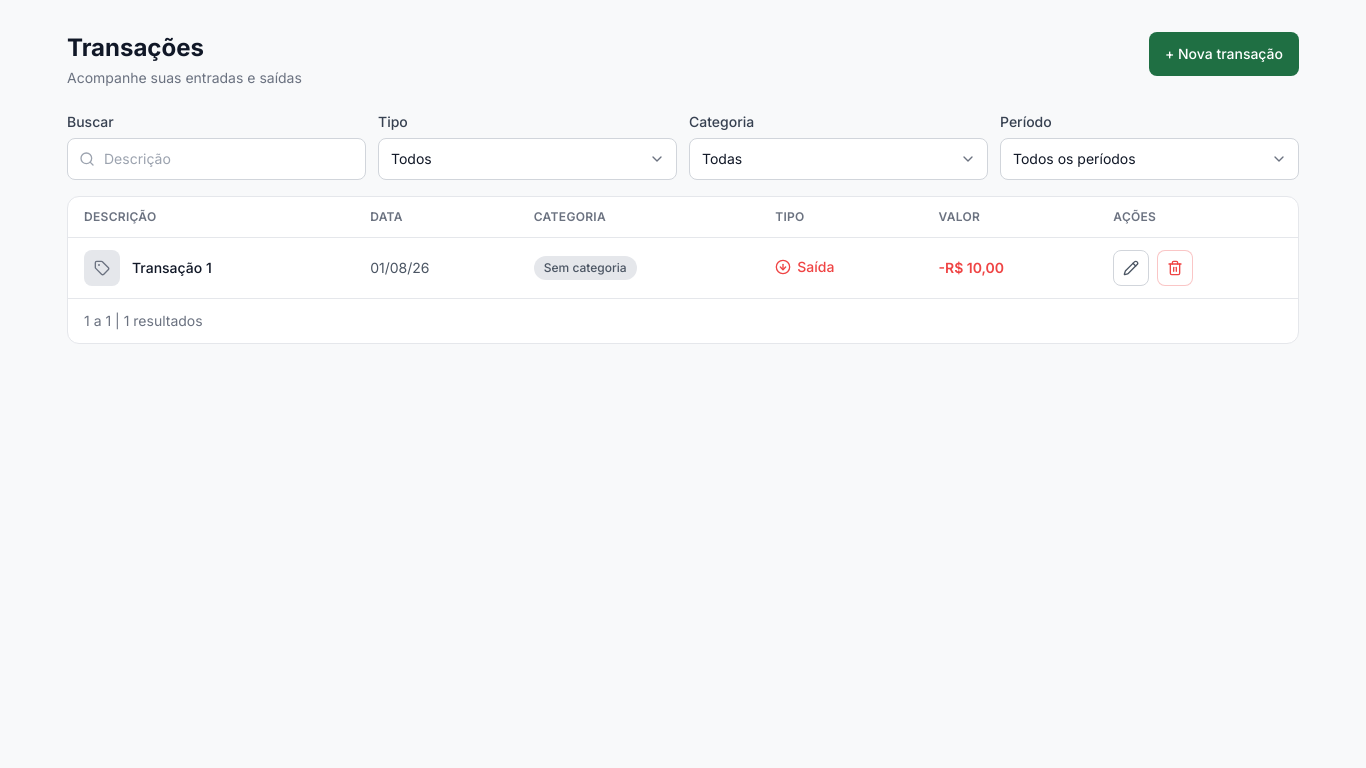
Test: TransactionsPage › opens the dialog holding the row it was asked to edit
Expected: the text "Transação 1" is shown, [132,258,212,278]
What coordinates should you click on to do the following:
click the button named "Editar Transação 1"
I would click on:
 (1131, 268)
Its box is [1113,250,1149,286].
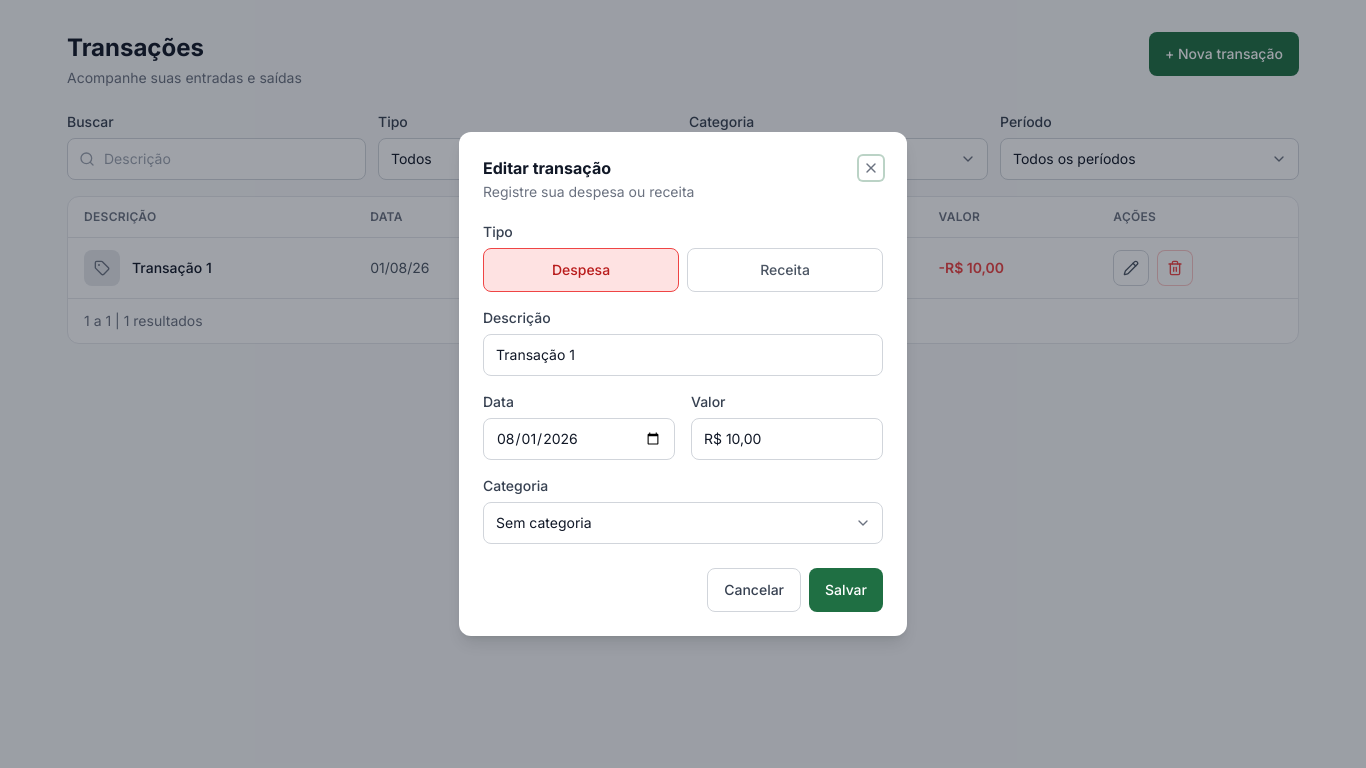
Result: the heading "Editar transação" is shown at [483,158,611,178]
Result: the field labelled "Descrição" holds "Transação 1" at [483,334,883,376]
